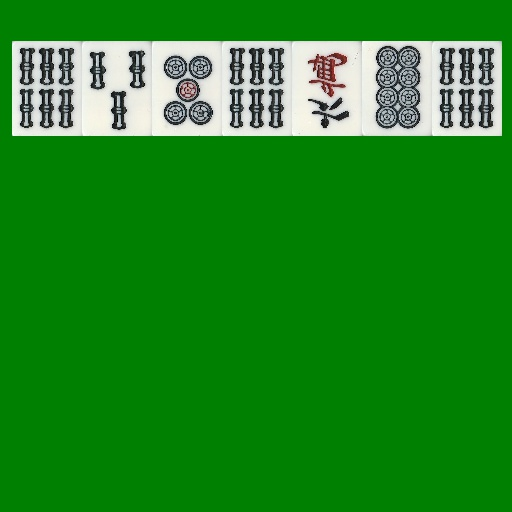3s: (82, 41, 152, 136)
5p: (152, 41, 222, 136)
6m: (292, 41, 362, 136)
6s: (12, 41, 82, 136), (222, 41, 292, 136), (432, 41, 502, 136)
8p: (362, 41, 432, 136)
